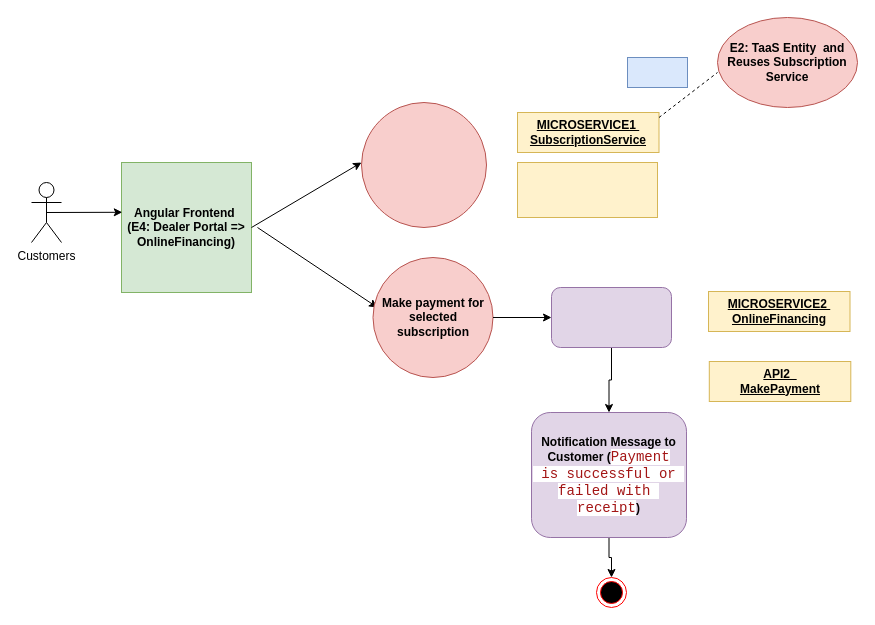
Image size: 875x625. Some labels were removed from this diagram. Here are the shapes that lost their labels. From the top down, the centre of each, then its label:
point (657, 72): Depends on
point (423, 165): Retrieve and Display list of available Subscriptions for a particular customer
point (587, 190): API1 GetSubscription
point (611, 317): Call MakePayment API
